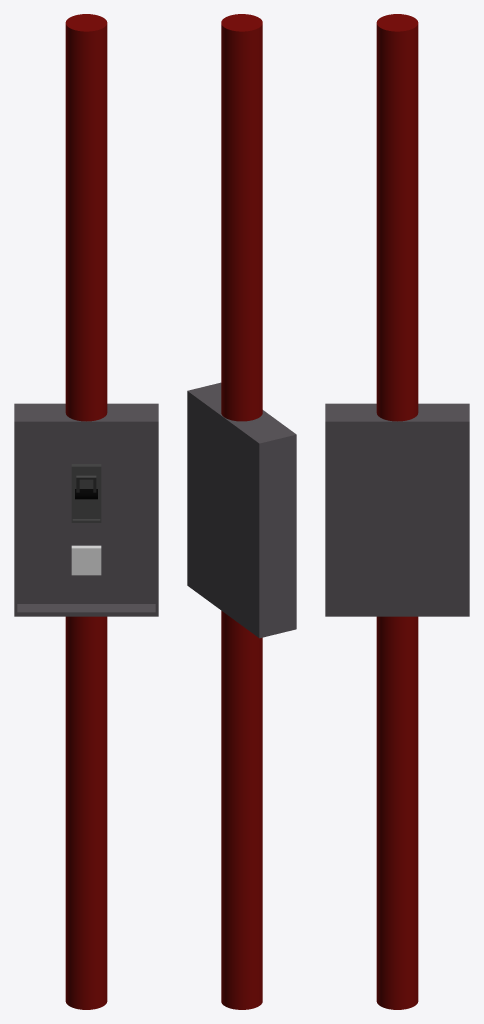
The model's file is OxygenSwitch.fbx.
The picture shows the model from 3 angles, left to right: view 1: azimuth 90°, elevation 25°; view 2: azimuth 210°, elevation 25°; view 3: azimuth 270°, elevation 25°; orthographic projection.
Visible parts, largest first — view 1: Pipe, PowerBase, HandleCase, LightIndicator, HandleBase; view 2: Pipe, PowerBase; view 3: Pipe, PowerBase.
Boxes of the visible parts, bbox=[...] form: Pipe: bbox=[65, 14, 107, 1009]; PowerBase: bbox=[14, 403, 158, 616]; HandleCase: bbox=[71, 464, 101, 522]; LightIndicator: bbox=[71, 545, 101, 575]; HandleBase: bbox=[75, 475, 97, 499]; Pipe: bbox=[221, 14, 262, 1009]; PowerBase: bbox=[187, 382, 296, 638]; Pipe: bbox=[376, 14, 418, 1009]; PowerBase: bbox=[325, 403, 469, 616].
Bounding box in the file's own units: 40 × 1005 × 134.
